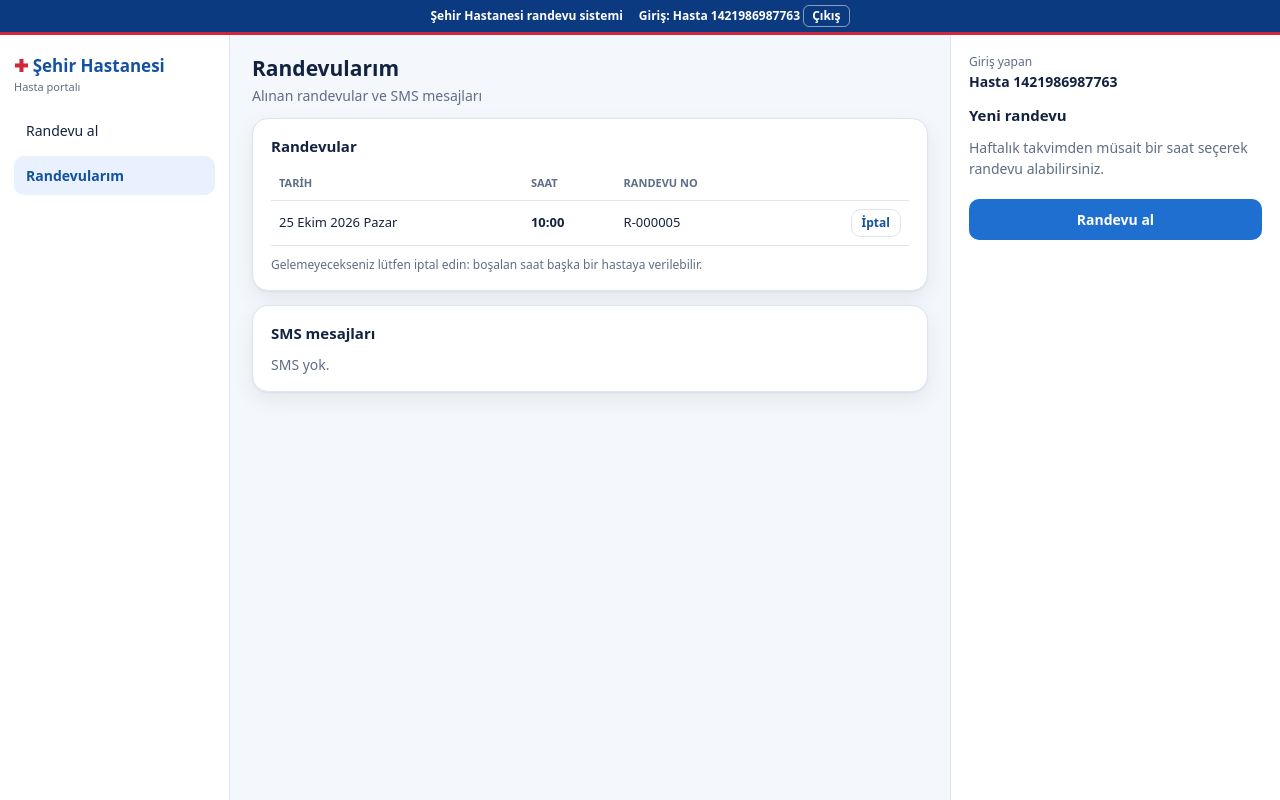
my appointments › cancels an appointment after confirmation
The image size is (1280, 800).
Click the button "İptal" at (876, 222), box 851,208 -> 901,236
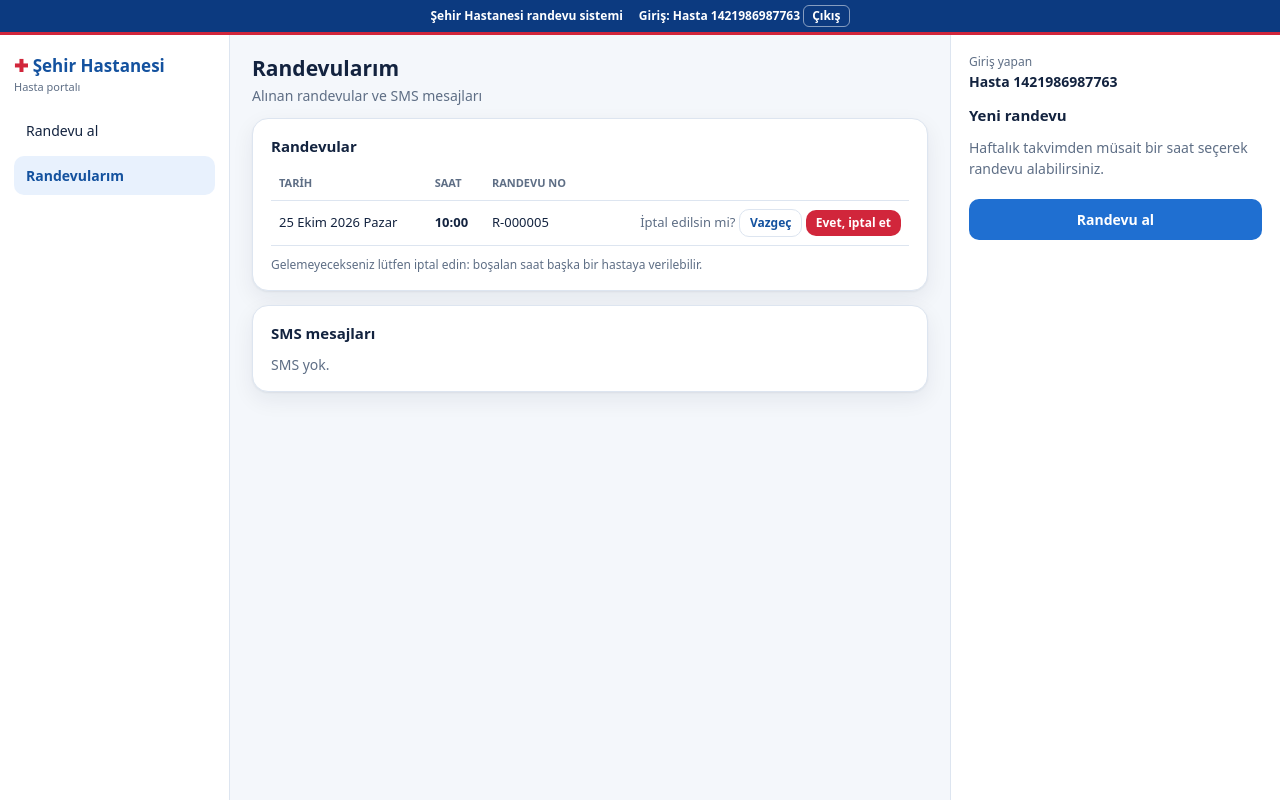
Expected: the text "İptal edilsin mi?" is shown, 640,212 -> 736,230
Click the button "Evet, iptal et" at (853, 222), box 806,210 -> 901,236
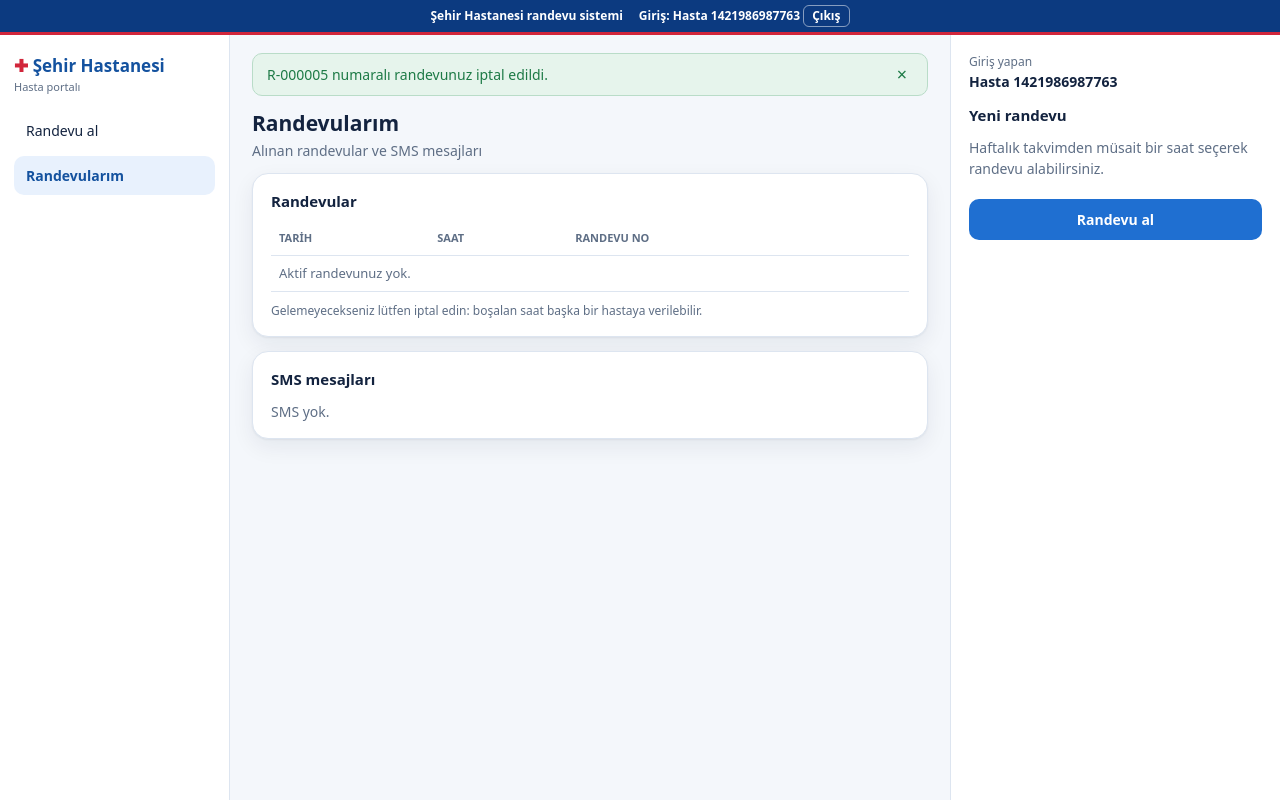
Expected: the text "SMS yok." is shown, 271,402 -> 330,420
Expected: the text "R-000005 numaralı randevunuz iptal edildi." is shown, 267,64 -> 548,85
Expected: the text "Aktif randevunuz yok." is shown, 271,255 -> 909,292
